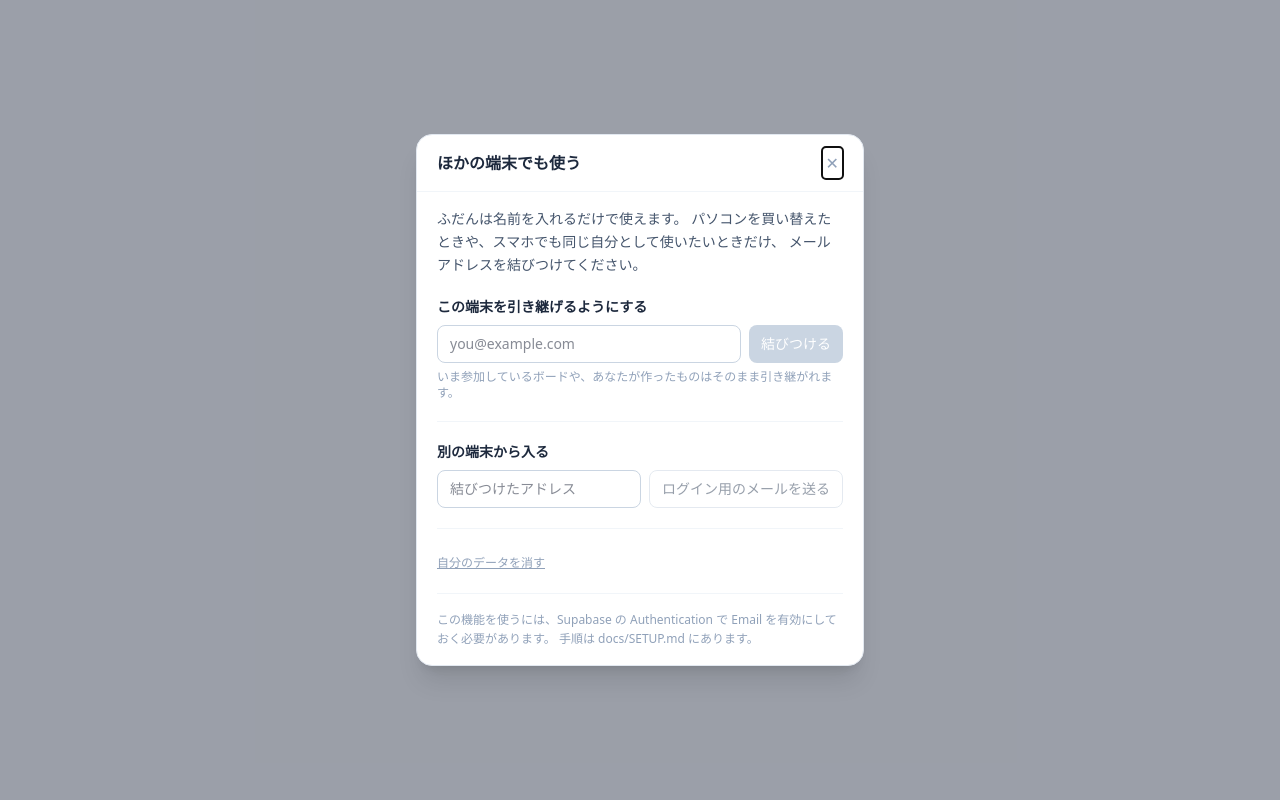
Test case: AccountModal — 自分のデータを消す › 作ったボードは owner_id で、参加しているボードは自分の行だけで引く
Click the button "自分のデータを消す": [491, 563] box [437,555,545,571]
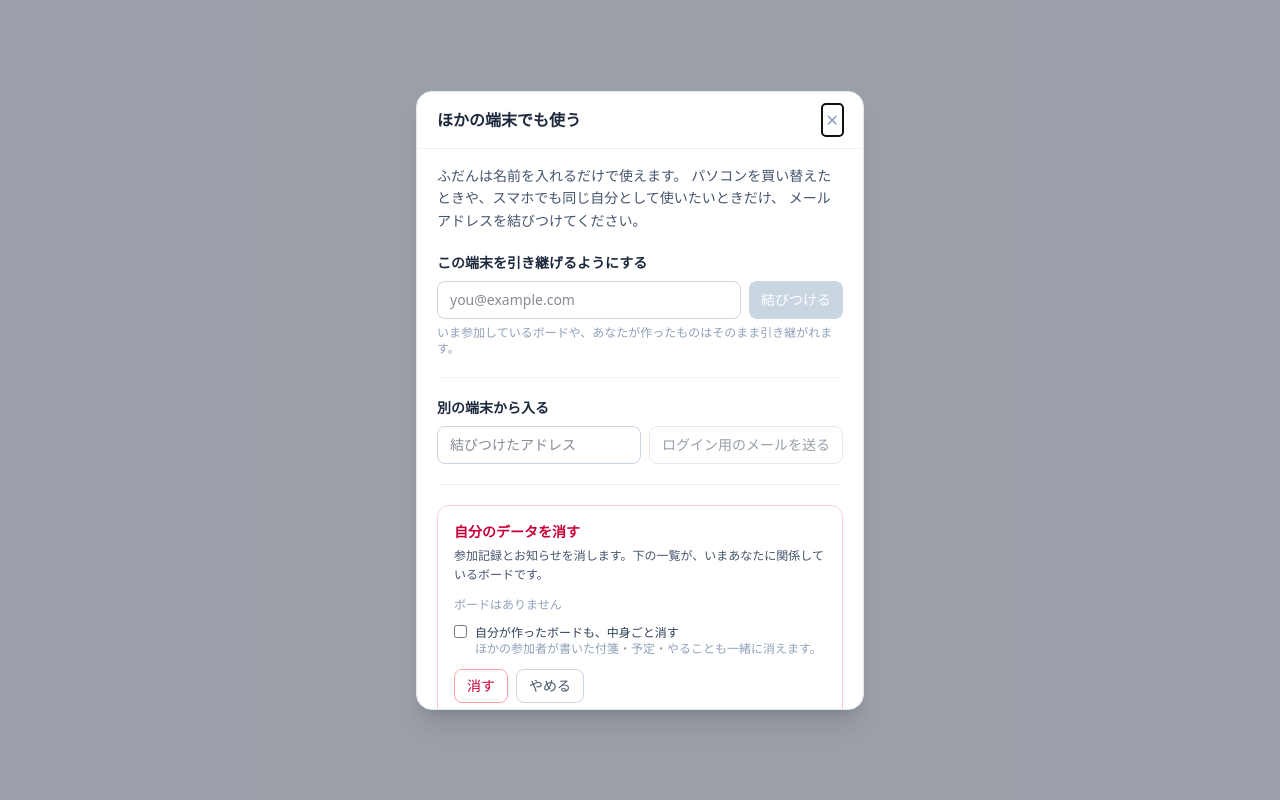
Check: the list item "ボードはありません" is shown, box [454,597,562,613]
